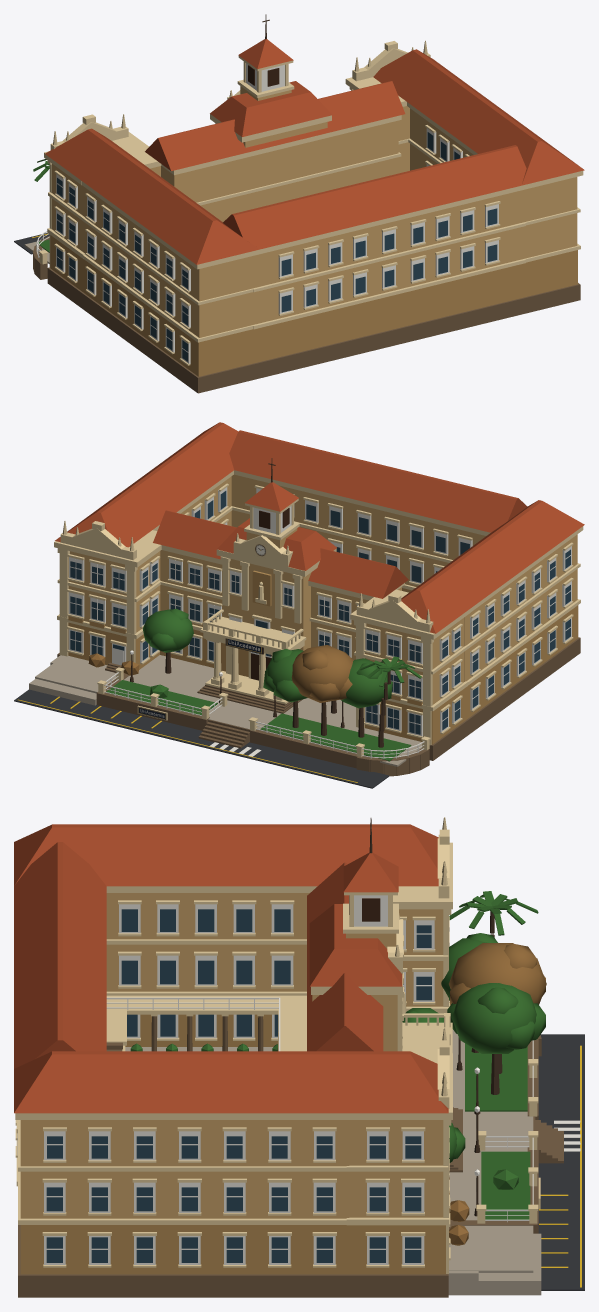
The model's file is uniacademia.glb.
3 renders of one model, top to bottom at view 1: azimuth 30°, elevation 25°; view 2: azimuth 150°, elevation 25°; view 3: azimuth 270°, elevation 25°, orthographic. The views are drawn at different scales.
Parts seen in each view (by area): view 1: UniAcademia; view 2: UniAcademia; view 3: UniAcademia.
Part boxes in pixels (x1,y1,x2,y2): UniAcademia: (14, 14, 584, 393); UniAcademia: (14, 422, 584, 788); UniAcademia: (14, 817, 584, 1297).
Bounding box in the file's own units: 47.1 × 28.05 × 41.9.
Materials: 15 (1 with a texture image).
